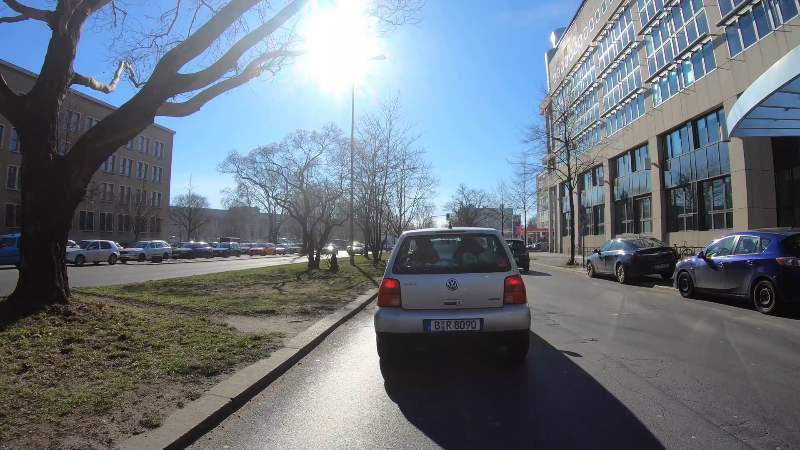Plate: (424, 317, 485, 332), (652, 262, 671, 270)
